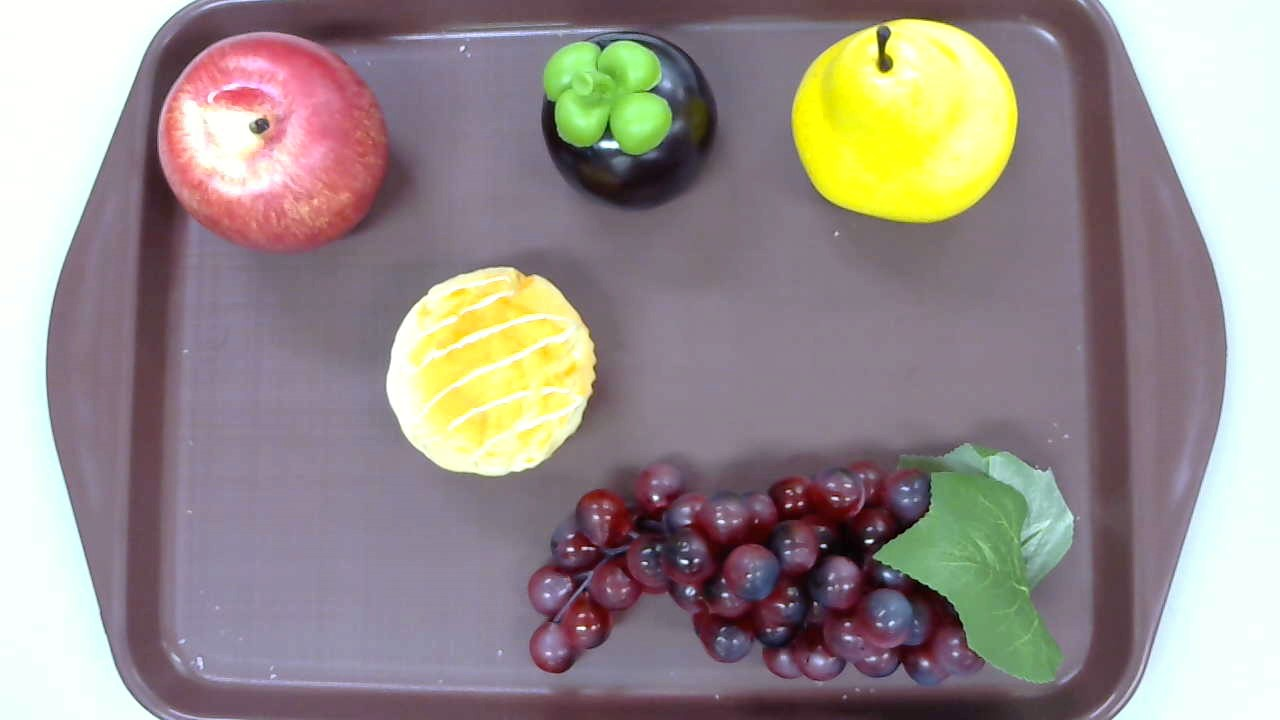cupcake: (386, 266, 597, 476)
grape: (527, 441, 1075, 686)
mangosteen: (541, 30, 716, 211)
red apple: (157, 31, 389, 254)
yellow pear: (789, 16, 1017, 223)
